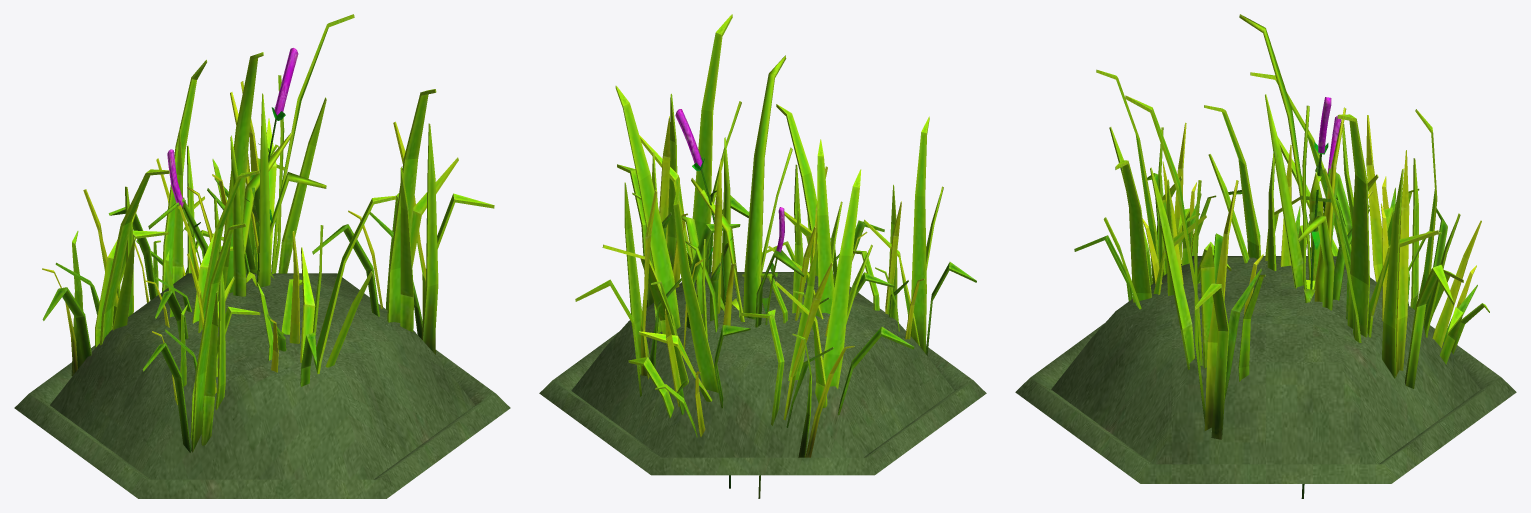
The model's file is grassy-hills.glb.
3 views of the same model, side by side, from view 1: azimuth 30°, elevation 25°; view 2: azimuth 150°, elevation 25°; view 3: azimuth 270°, elevation 25° (orthographic). The views are drawn at different scales.
Visible parts, largest first — view 1: HexagonTile.006, Plane.007, Plane, Plane.015, Plane.017, Plane.020, Plane.018, Plane.011, Plane.005, Plane.001; view 2: HexagonTile.006, Plane.017, Plane, Plane.018, Plane.007, Plane.011, Plane.015, Plane.005, Plane.020, Plane.001; view 3: HexagonTile.006, Plane.018, Plane.007, Plane, Plane.011, Plane.020, Plane.017, Plane.005, Plane.015, Plane.001.
Part boxes in pixels (<box>): HexagonTile.006: <box>14,273,510,498</box>; Plane.007: <box>312,89,494,354</box>; Plane: <box>148,52,326,296</box>; Plane.015: <box>142,223,260,452</box>; Plane.017: <box>42,169,169,375</box>; Plane.020: <box>257,195,396,386</box>; Plane.018: <box>212,14,354,274</box>; Plane.011: <box>108,59,223,302</box>; Plane.005: <box>145,170,259,339</box>; Plane.001: <box>167,48,298,288</box>; HexagonTile.006: <box>539,272,986,475</box>; Plane.017: <box>740,169,914,457</box>; Plane: <box>681,55,804,332</box>; Plane.018: <box>575,85,740,396</box>; Plane.007: <box>617,14,749,307</box>; Plane.011: <box>628,177,750,437</box>; Plane.015: <box>853,116,976,355</box>; Plane.005: <box>742,139,894,336</box>; Plane.020: <box>762,104,884,286</box>; Plane.001: <box>675,109,784,498</box>; HexagonTile.006: <box>1015,256,1516,483</box>; Plane.018: <box>1300,114,1453,388</box>; Plane.007: <box>1125,95,1265,439</box>; Plane: <box>1239,14,1372,310</box>; Plane.011: <box>1410,109,1489,364</box>; Plane.020: <box>1074,160,1231,309</box>; Plane.017: <box>1250,72,1419,305</box>; Plane.005: <box>1204,105,1323,270</box>; Plane.015: <box>1096,69,1216,284</box>; Plane.001: <box>1301,97,1340,498</box>.
Bounding box in the file's own units: 1.82 × 2.07 × 2.
3 materials, 3 textured.
